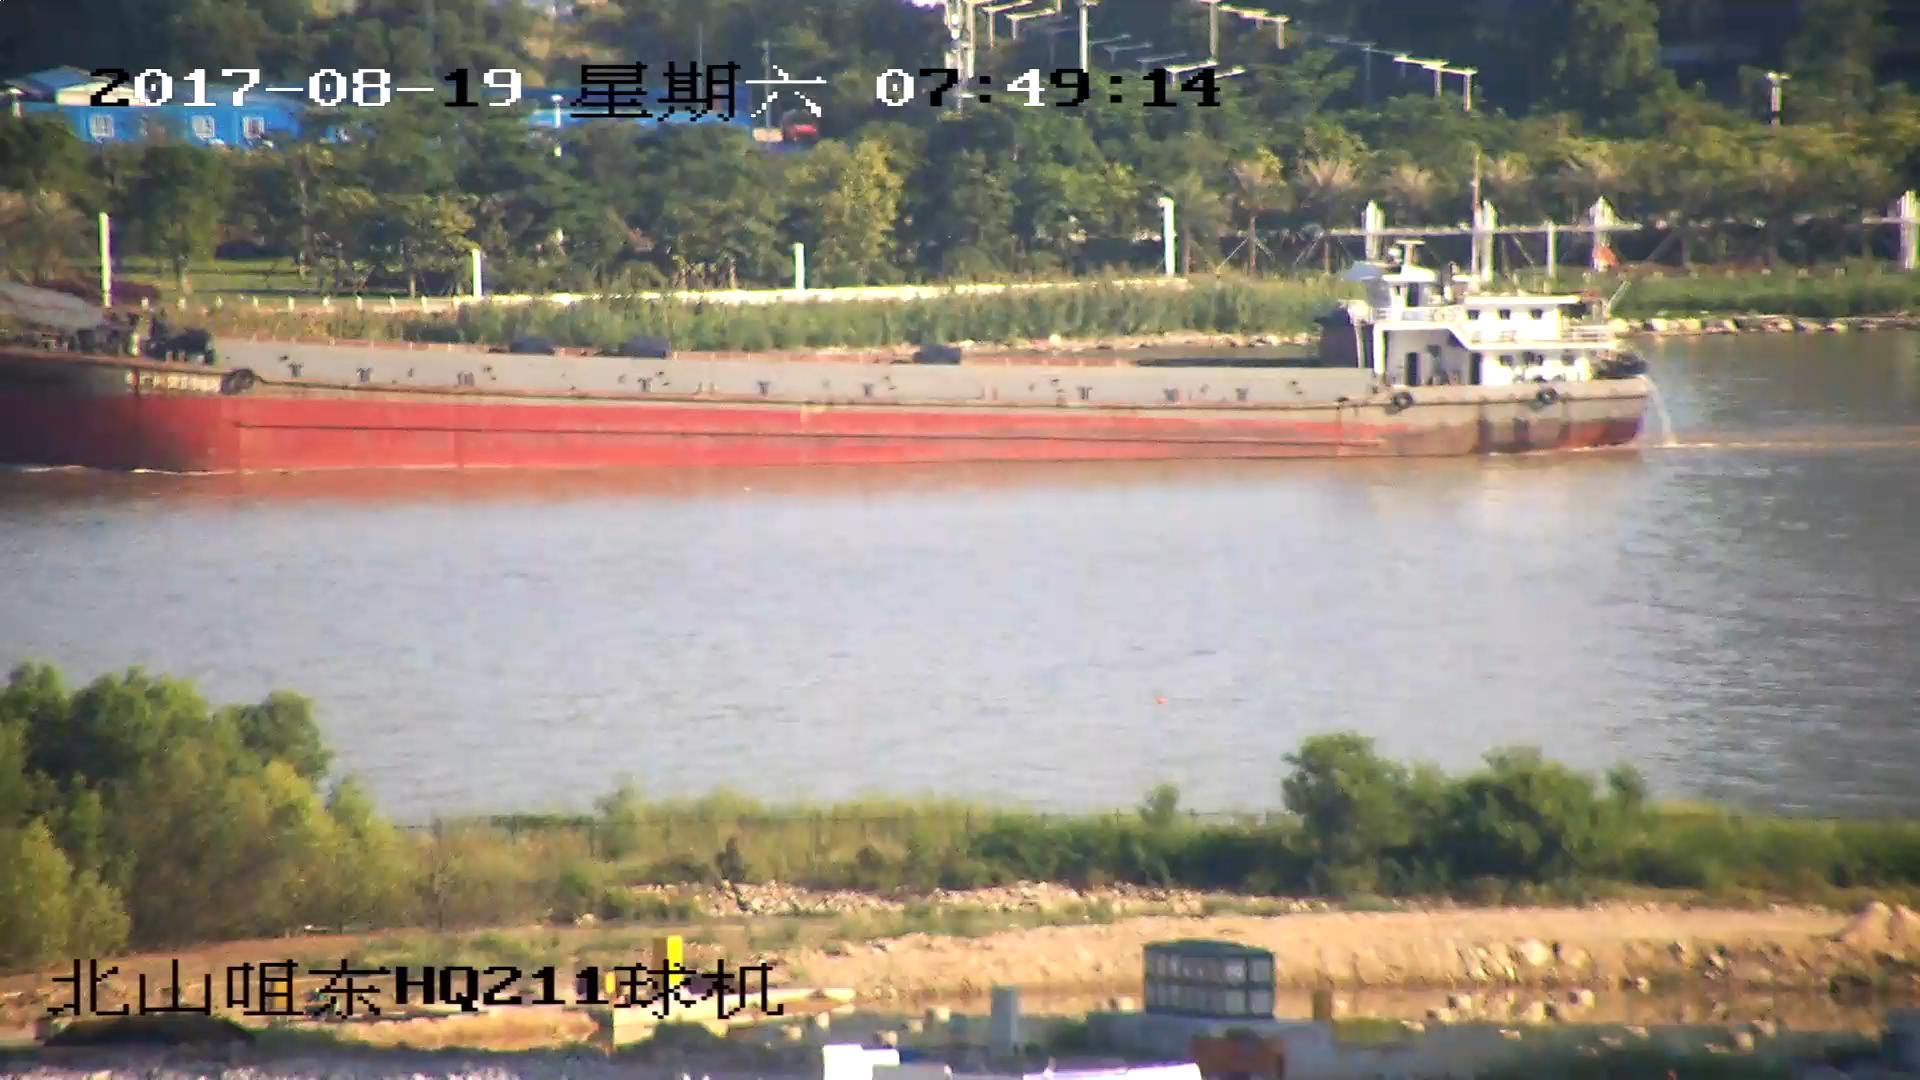Ship: (3, 241, 1667, 476)
